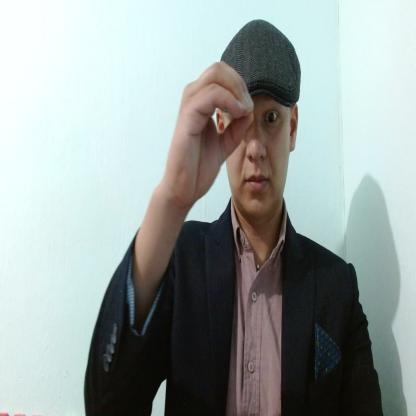O: (164, 61, 255, 199)
